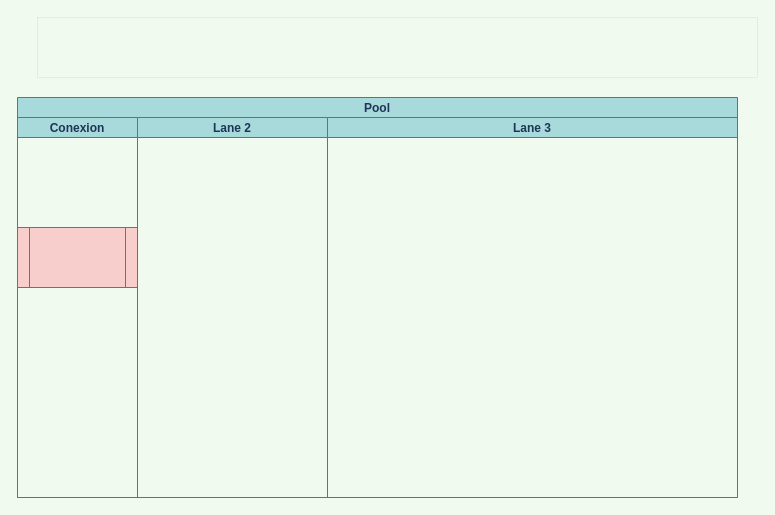
The diagram is 775 pixels wide and 515 high, and some of its shapes have lost their labels. Here are the shapes that lost their labels. From the top down, the centre of each, then its label:
point 397,47: Representacion Flujo de Analisis Estadistica Migra
point 77,257: Conexion a Base de datos Oracle
